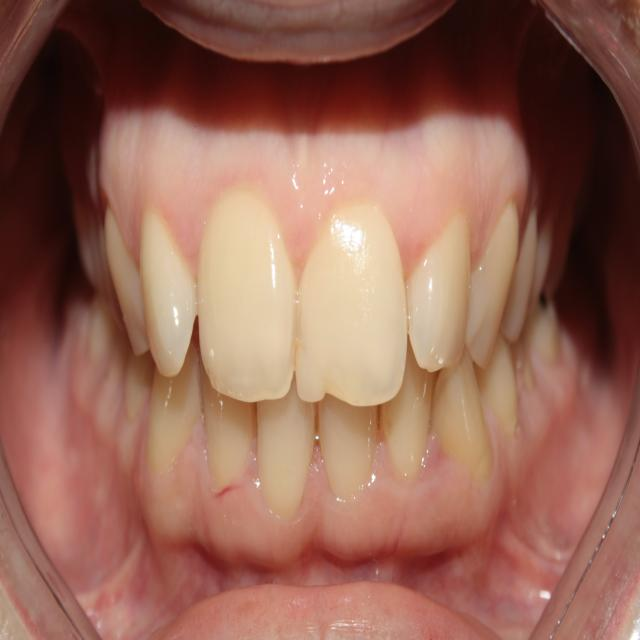tooth: (288, 214, 402, 413), (202, 194, 296, 420), (398, 225, 471, 371), (474, 218, 538, 362), (141, 228, 195, 368), (259, 408, 325, 498), (442, 375, 497, 470), (201, 396, 256, 481), (325, 410, 377, 490), (153, 372, 201, 458), (386, 389, 436, 467), (490, 345, 531, 436)
